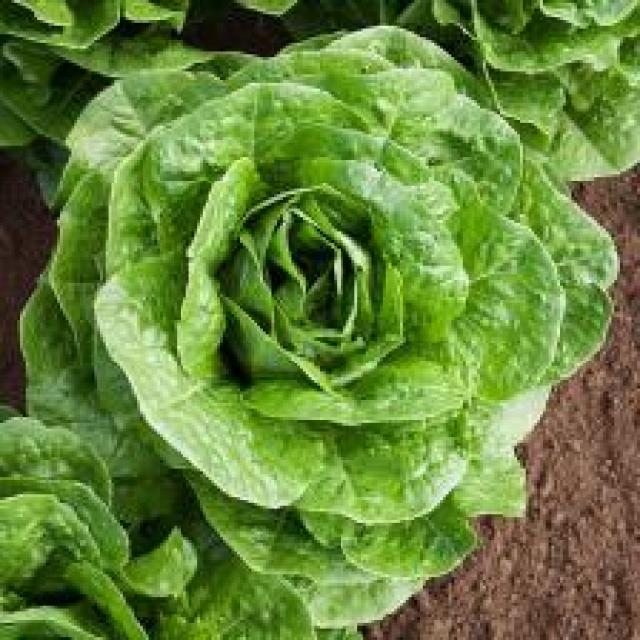Lettuce: (34, 32, 602, 609)
